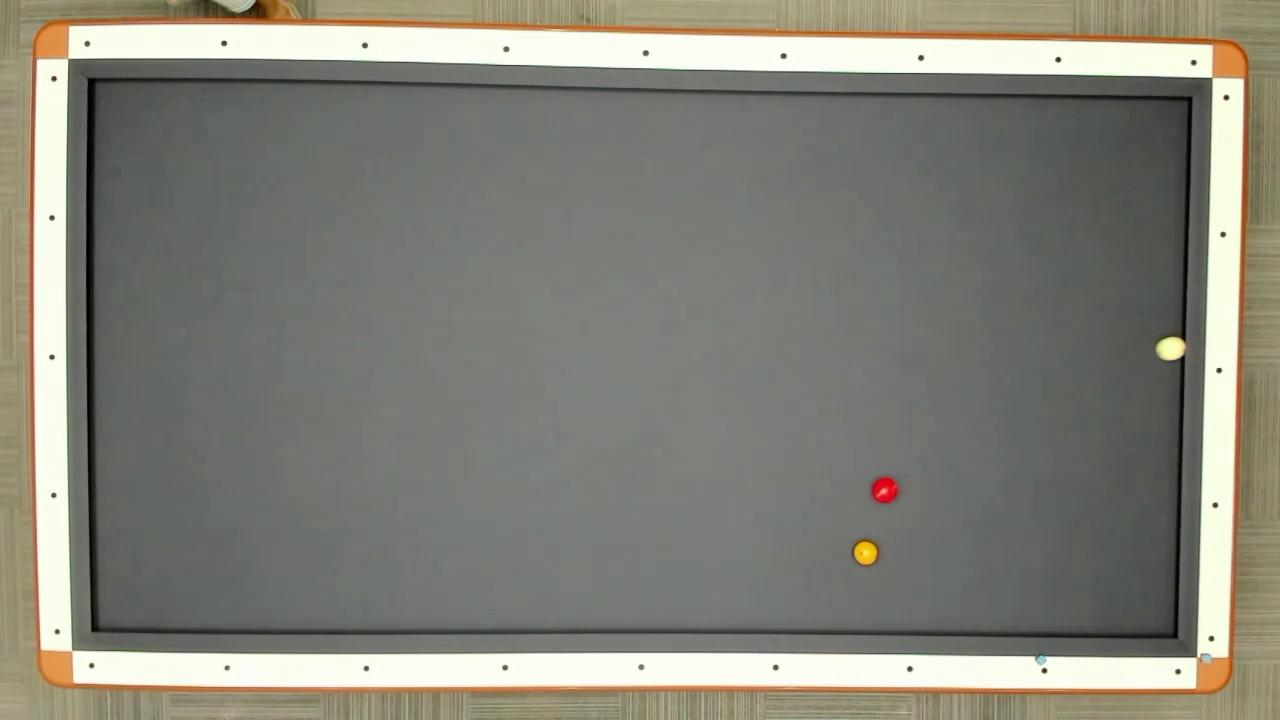Red: (871, 476, 900, 505)
White: (1154, 334, 1186, 362)
Yellow: (850, 538, 879, 568)
